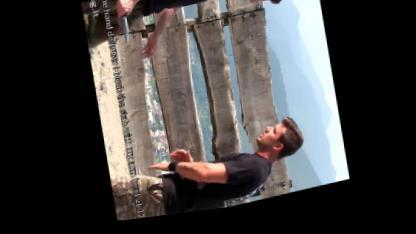knife: (114, 0, 137, 51)
